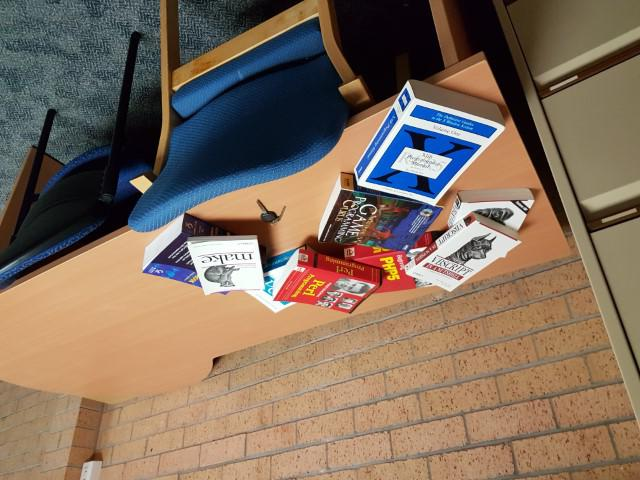key: (257, 198, 279, 224)
